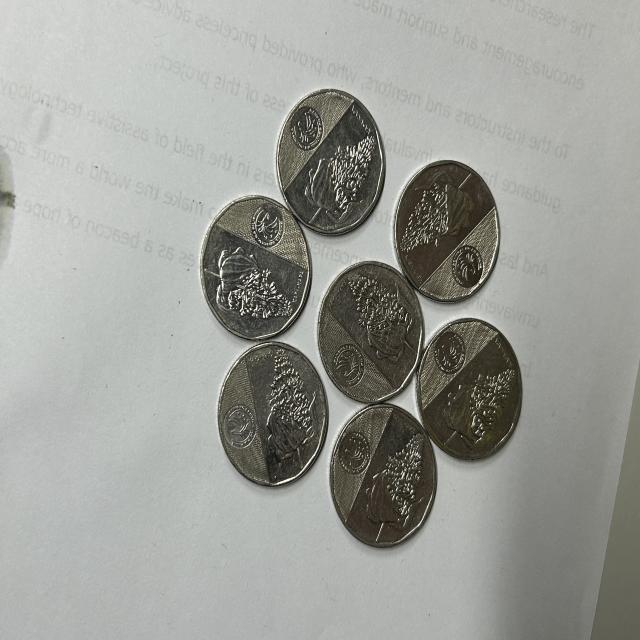10_New_Back: (344, 269, 428, 379), (438, 363, 523, 469), (206, 232, 292, 326), (368, 428, 438, 536), (400, 177, 484, 262), (299, 140, 388, 212), (261, 350, 318, 462)
